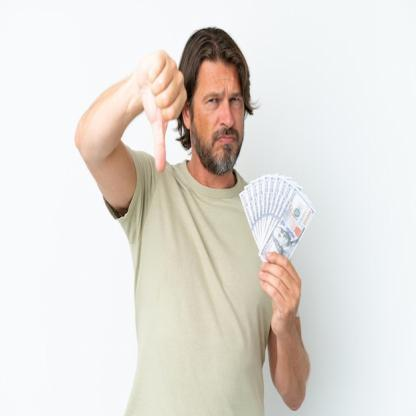thumb_down: (134, 39, 190, 182)
